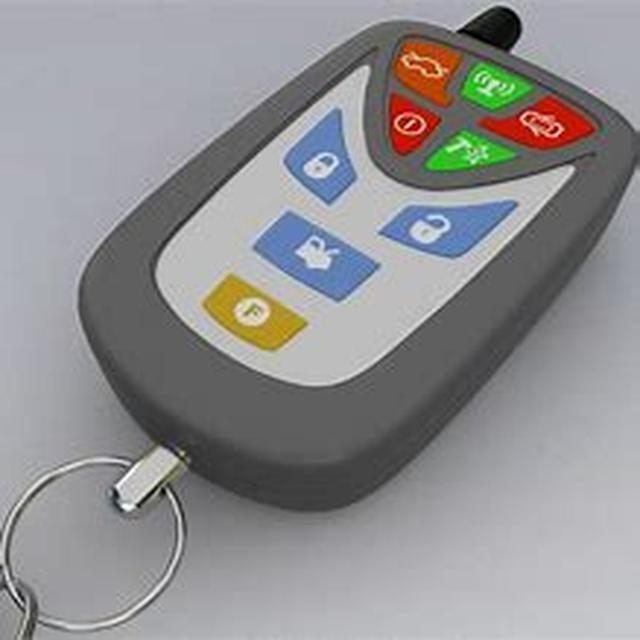key: (23, 11, 628, 614)
